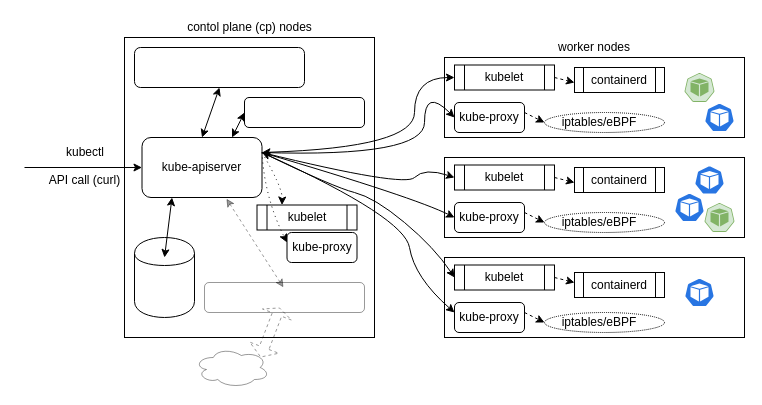
The diagram is 762 pixels wide and 405 high, and some of its shapes have lost their labels. The centre of each missing label's shape, as x and y in pixels:
cloud-controller-manager: the point at 284,297
etcd: the point at 164,277
kube-controller-manager: the point at 219,67
kube-scheduler: the point at 304,112
